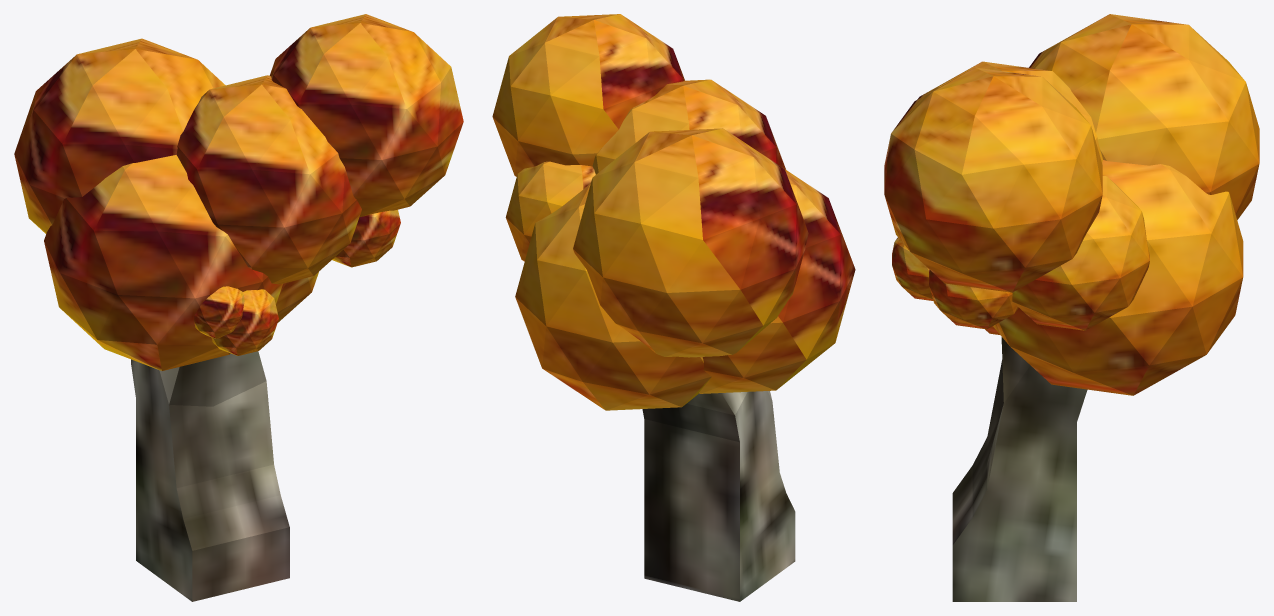
Rendered from Tree6.fbx.
The picture shows the model from 3 angles, left to right: view 1: azimuth 30°, elevation 25°; view 2: azimuth 150°, elevation 25°; view 3: azimuth 270°, elevation 25°; orthographic projection. The views are drawn at different scales.
Parts seen in each view (by area): view 1: Tree 6; view 2: Tree 6; view 3: Tree 6.
Boxes of the visible parts, x1,y1,x2,y2 form: Tree 6: (14, 14, 463, 601); Tree 6: (492, 14, 855, 601); Tree 6: (884, 14, 1259, 601).
Bounding box in the file's own units: 603 × 749 × 1019.
